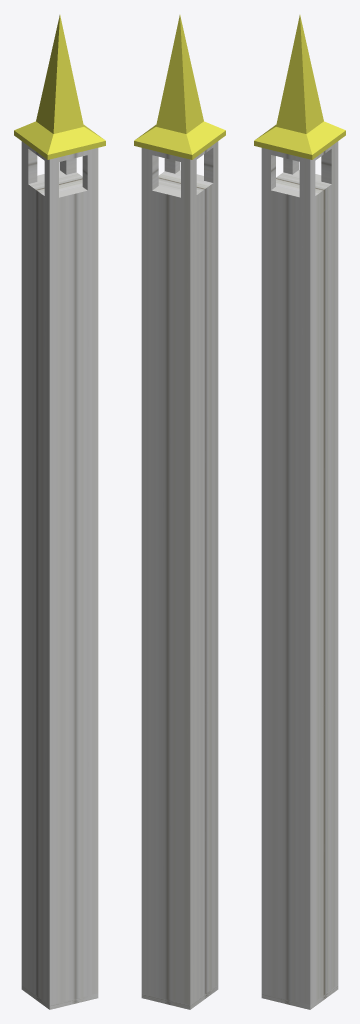
Rendered from CastleBuilding3.fbx.
3 renders of one model, left to right at view 1: azimuth 30°, elevation 25°; view 2: azimuth 150°, elevation 25°; view 3: azimuth 330°, elevation 25°, orthographic.
Parts seen in each view (by area): view 1: Base, Roof; view 2: Base, Roof; view 3: Base, Roof.
Boxes of the visible parts, x1,y1,x2,y2 form: Base: [21, 141, 98, 1009]; Roof: [14, 15, 105, 159]; Base: [141, 141, 218, 1009]; Roof: [134, 15, 225, 159]; Base: [261, 141, 338, 1009]; Roof: [254, 15, 345, 159].
Bounding box in the file's own units: 2400 × 38562 × 2400.
Materials: 2 (1 with a texture image).
